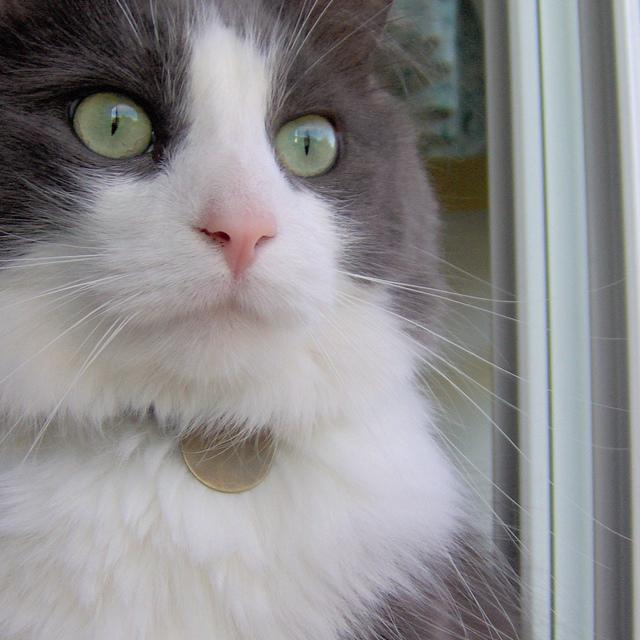animals: (0, 0, 406, 267)
